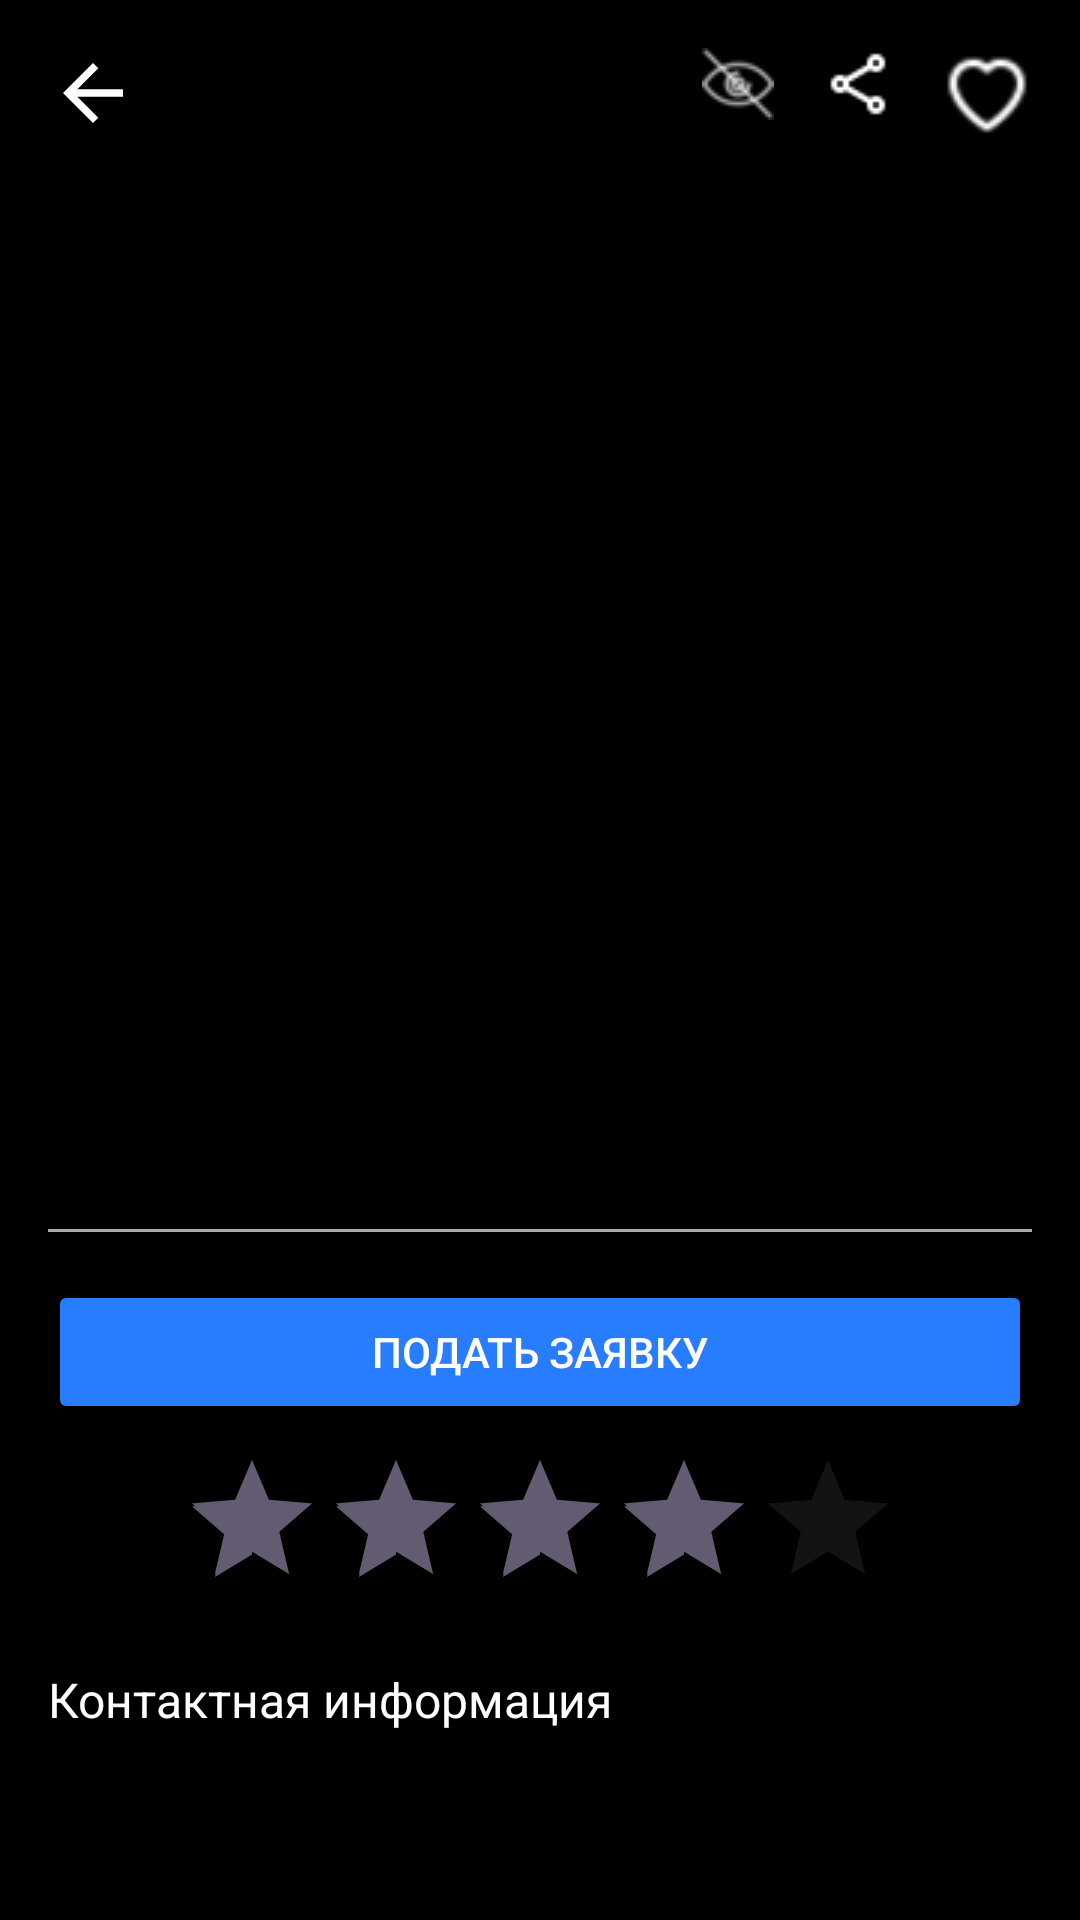

Screen size 1080px×1920px. Icon name, then its center in pixels as [x,y]:
Назад: [93,93]
Поделиться: [858,84]
Показать: [738,84]
Сохранить: [987,95]
